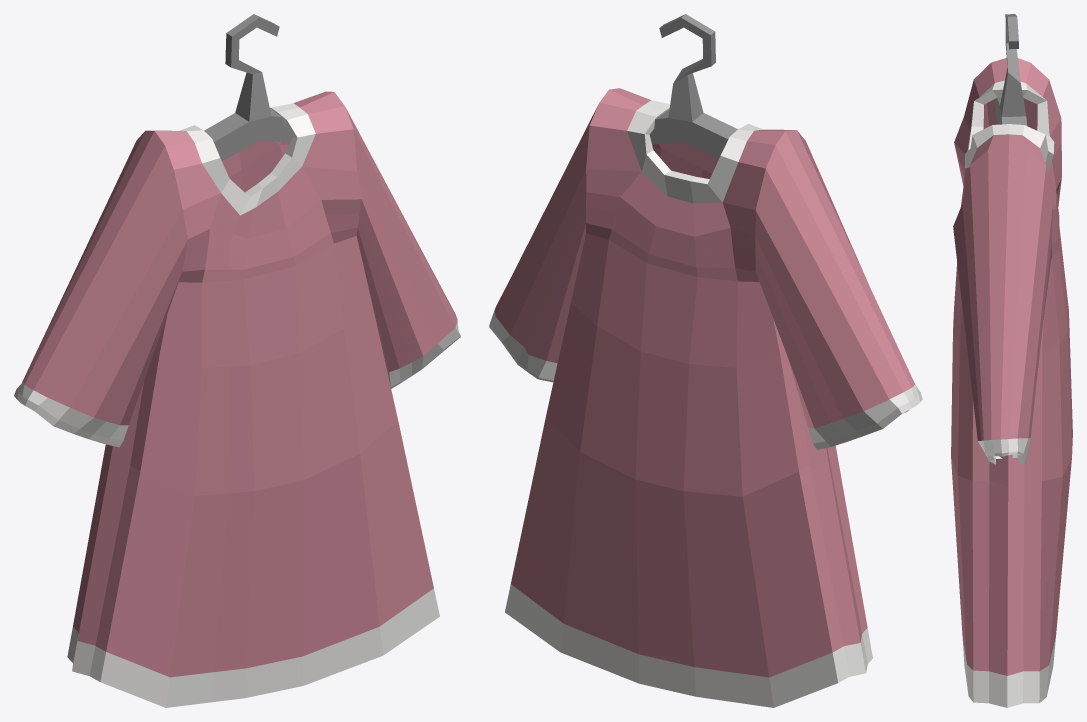
Rendered from Dress.fbx.
3 renders of one model, left to right at view 1: azimuth 30°, elevation 25°; view 2: azimuth 150°, elevation 25°; view 3: azimuth 270°, elevation 25°, orthographic. The views are drawn at different scales.
Parts seen in each view (by area): view 1: Dress; view 2: Dress; view 3: Dress.
Boxes of the visible parts, left/top/right/bottom form: Dress: left=14, top=14, right=460, bottom=707; Dress: left=489, top=14, right=922, bottom=707; Dress: left=951, top=14, right=1072, bottom=707.
Bounding box in the file's own units: 64.76 × 16.41 × 94.87.
